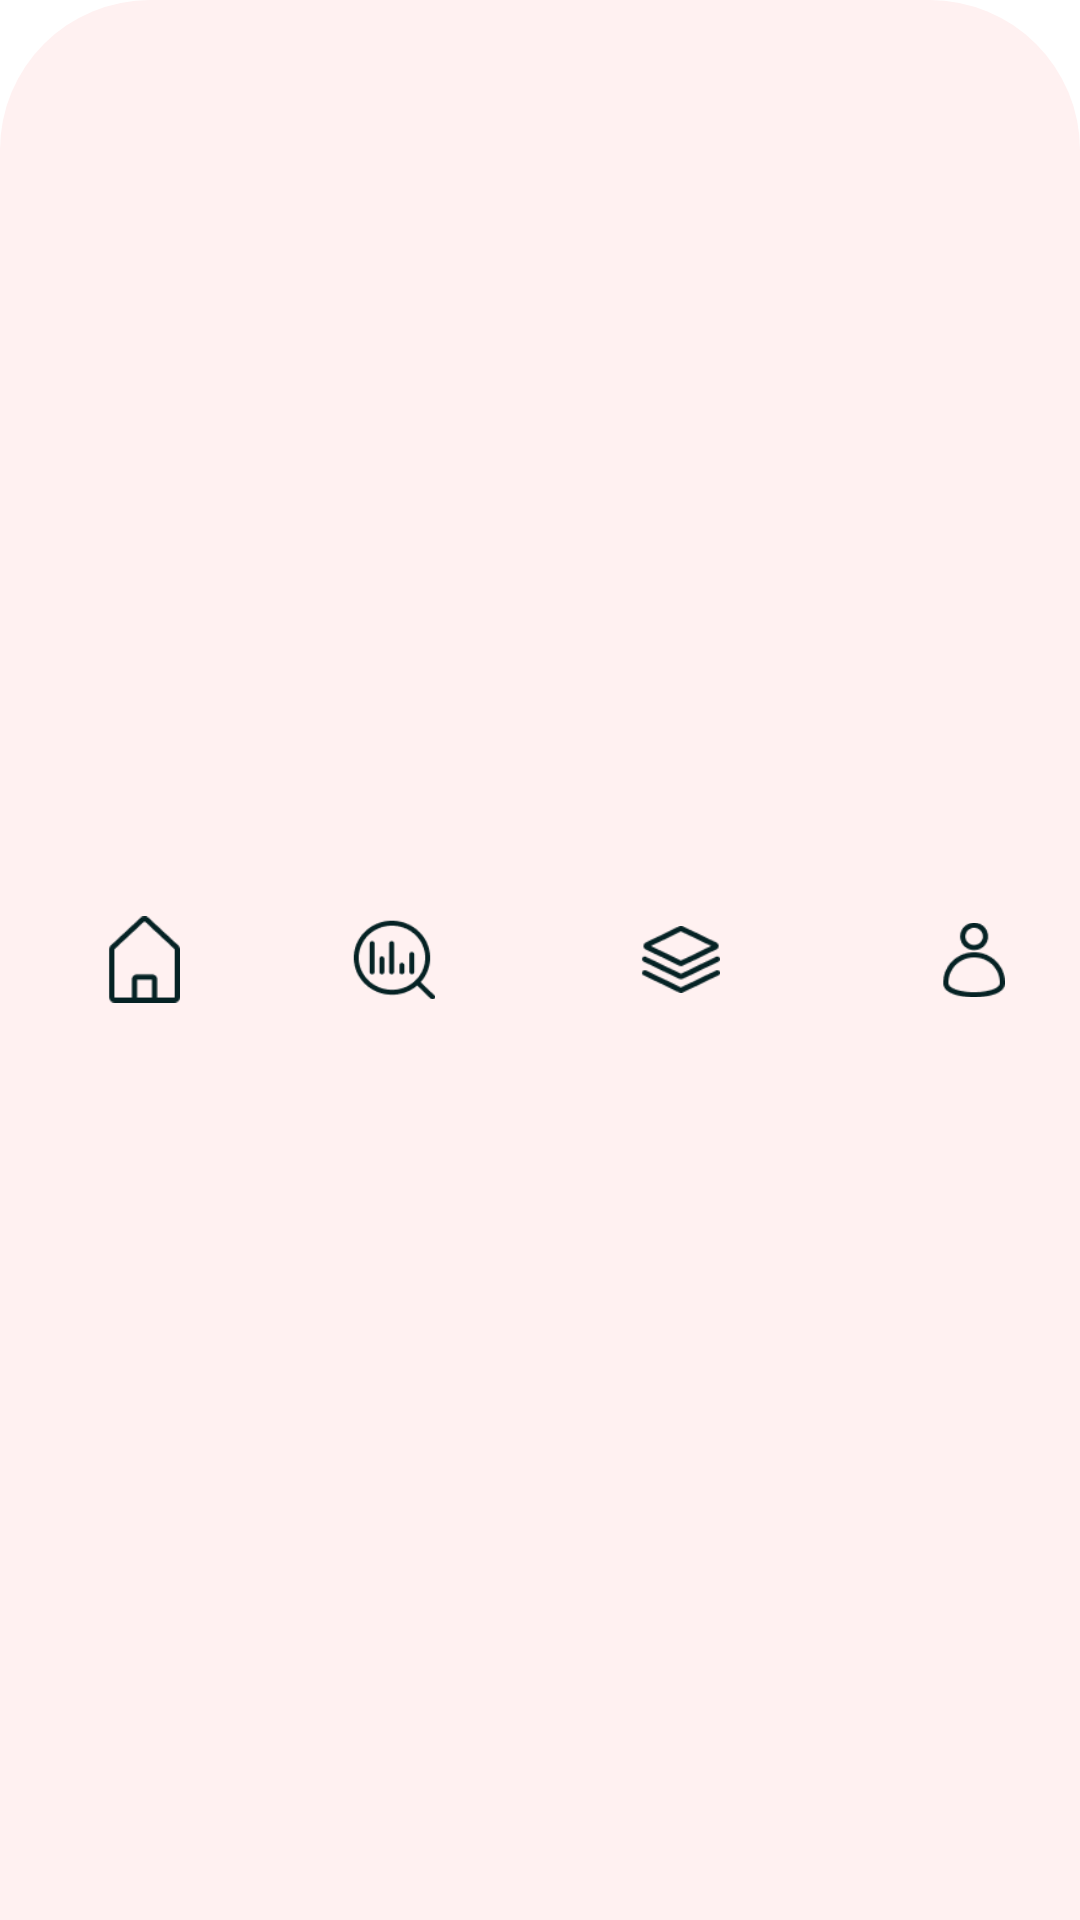

Screen size 1080px×1920px. Icon name, then its center in pixels as (x=x, y=y):
analysis: (x=394, y=959)
category: (x=681, y=959)
home: (x=144, y=959)
profile: (x=974, y=960)
